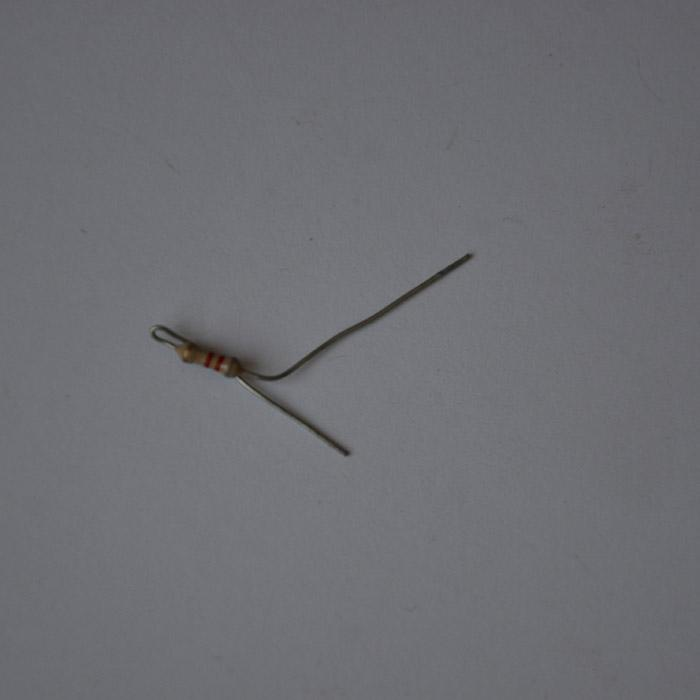resistor: (165, 337, 242, 379)
